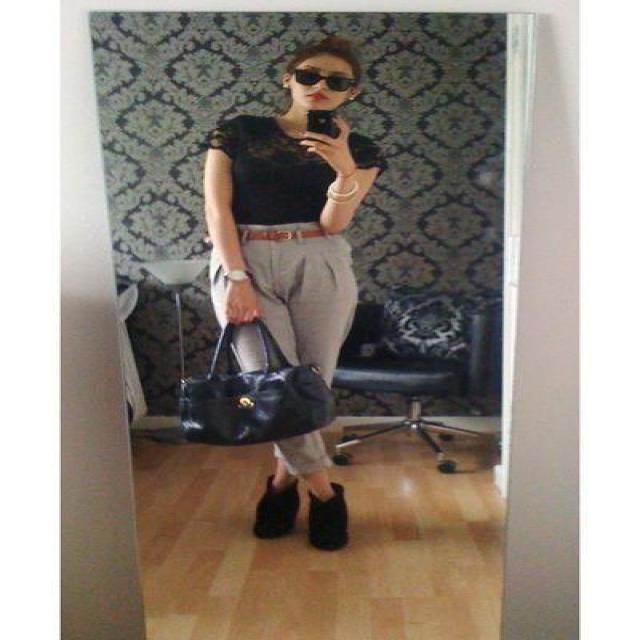bag: (144, 320, 346, 454)
pants: (211, 235, 357, 465)
shirt: (211, 110, 402, 226)
shoe: (253, 475, 347, 550)
sunglass: (266, 50, 376, 105)
